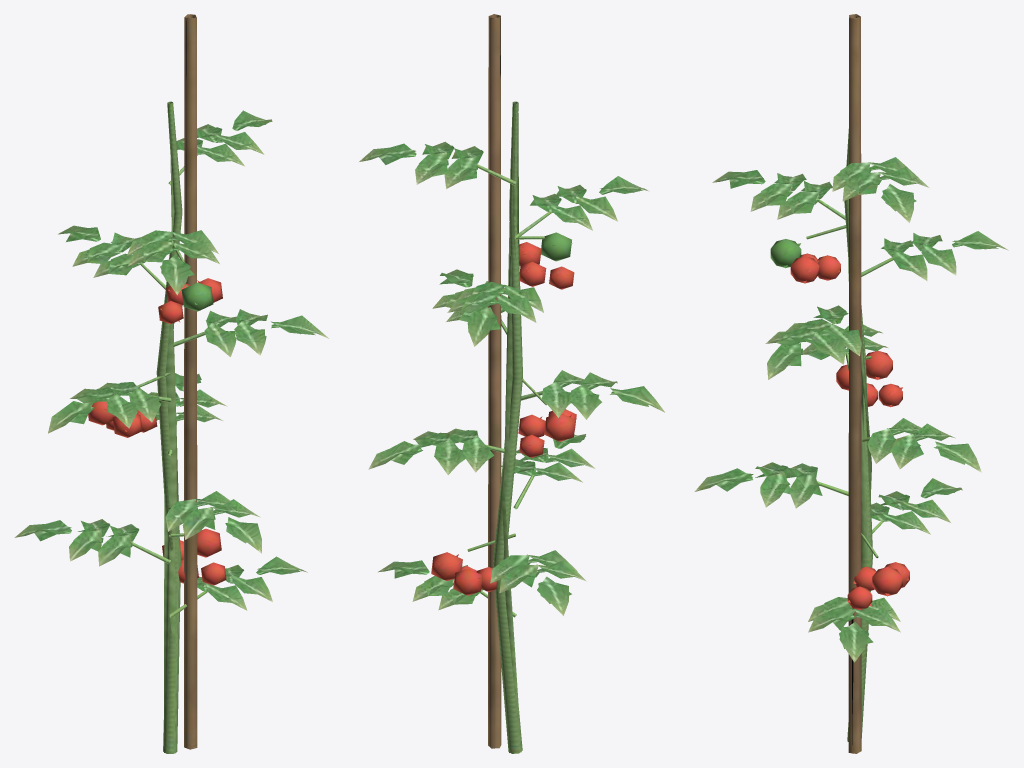
File: jitomate.glb
3 views of the same model, side by side, from view 1: azimuth 30°, elevation 25°; view 2: azimuth 150°, elevation 25°; view 3: azimuth 270°, elevation 25° (orthographic).
Parts seen in each view (by area): view 1: jitomate, jitomate_lp; view 2: jitomate, jitomate_lp; view 3: jitomate, jitomate_lp.
Boxes of the visible parts, <box> form: jitomate: <box>14,14,328,753</box>; jitomate_lp: <box>32,14,315,753</box>; jitomate: <box>359,14,664,753</box>; jitomate_lp: <box>376,14,648,752</box>; jitomate: <box>694,14,1008,753</box>; jitomate_lp: <box>711,14,998,753</box>.
Size of the model in its own units: 0.5314 by 1.35 by 0.5253.
2 materials, 2 textured.
